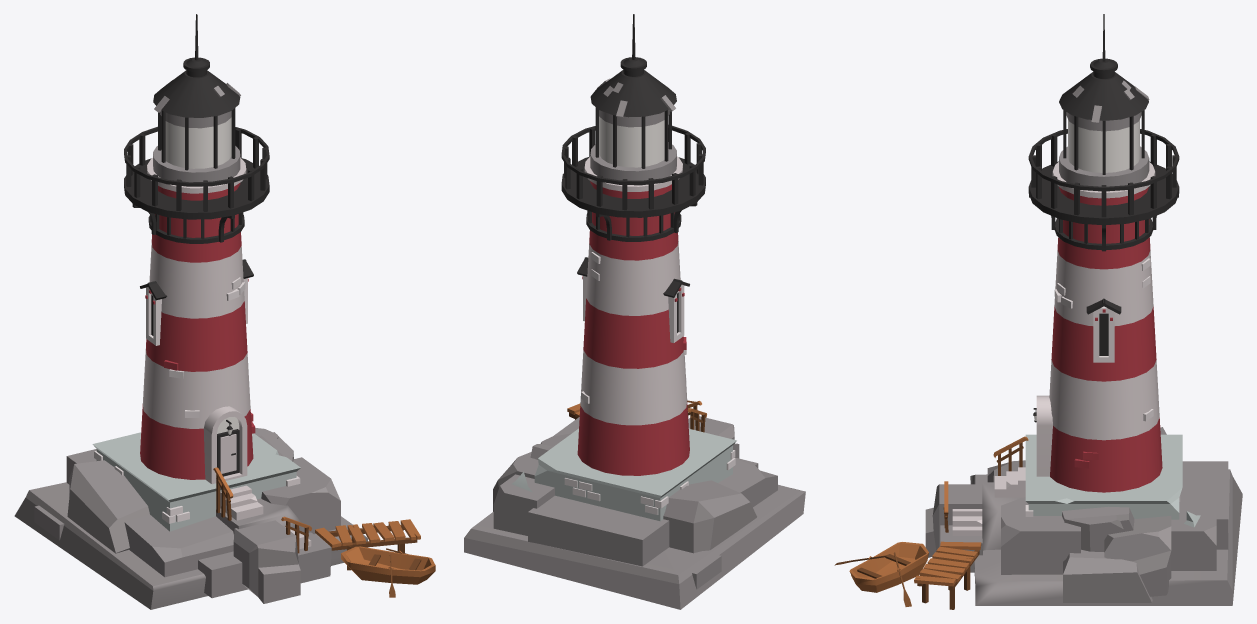
The model's file is lighthouse.fbx.
3 renders of one model, left to right at view 1: azimuth 30°, elevation 25°; view 2: azimuth 150°, elevation 25°; view 3: azimuth 270°, elevation 25°, orthographic. The views are drawn at different scales.
Visible parts, largest first — view 1: Lighthouse; view 2: Lighthouse; view 3: Lighthouse.
Part boxes in pixels (x1,y1,x2,y2): Lighthouse: (14, 14, 435, 609); Lighthouse: (464, 14, 805, 609); Lighthouse: (834, 14, 1242, 609).
Size of the model in its own units: 1005 by 1970 by 1357.
